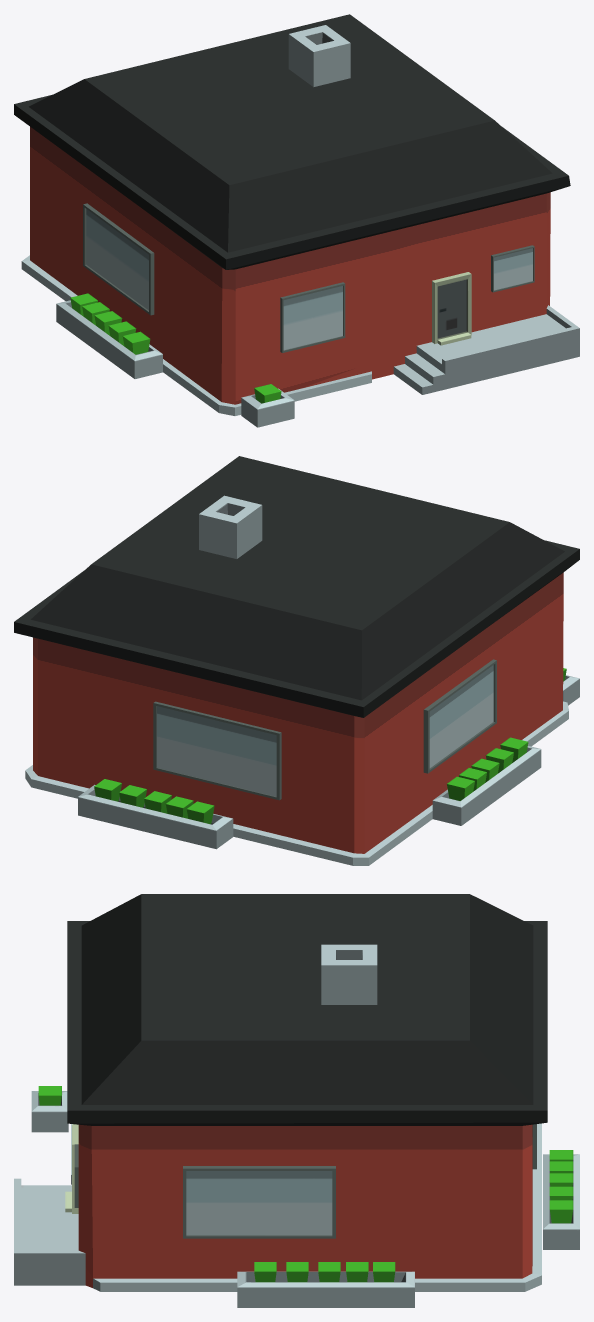
Rendered from Flatty Roof Red 1.fbx.
The picture shows the model from 3 angles, top to bottom: view 1: azimuth 30°, elevation 25°; view 2: azimuth 150°, elevation 25°; view 3: azimuth 270°, elevation 25°; orthographic projection. The views are drawn at different scales.
Parts seen in each view (by area): view 1: Flatty Roof Red 1; view 2: Flatty Roof Red 1; view 3: Flatty Roof Red 1.
Part boxes in pixels (left/top/right/bottom): Flatty Roof Red 1: left=14, top=14, right=579, bottom=427; Flatty Roof Red 1: left=14, top=456, right=579, bottom=865; Flatty Roof Red 1: left=14, top=894, right=579, bottom=1307.
Size of the model in its own units: 5.28 by 3.01 by 5.75.
